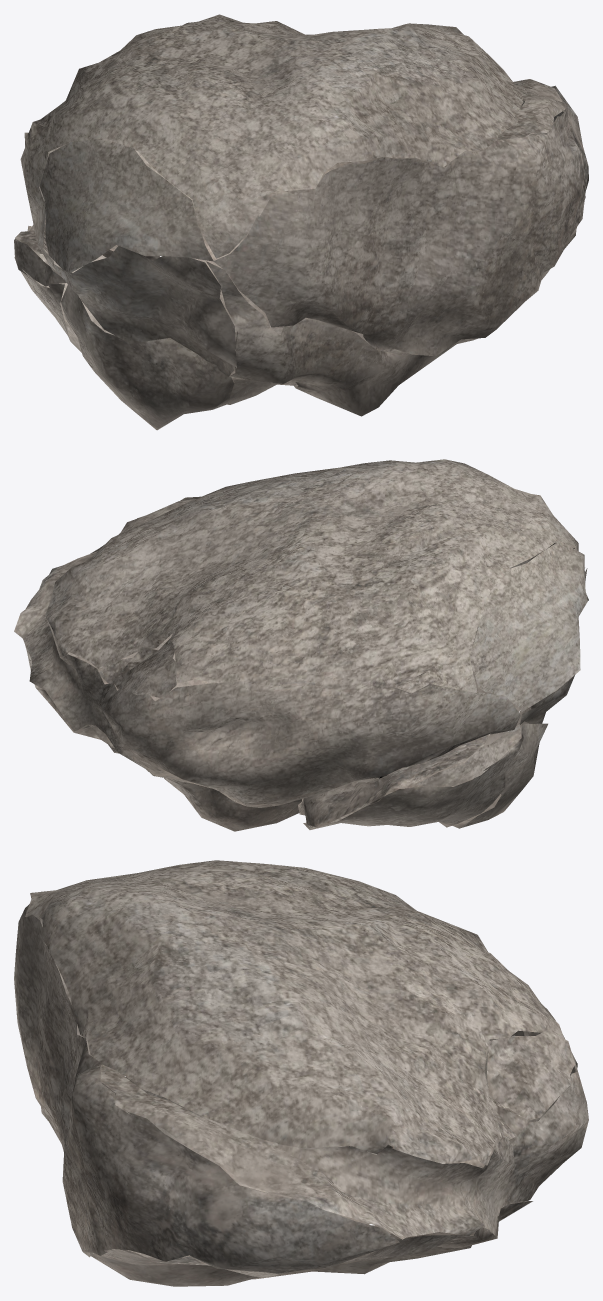
File: BG_RockC.fbx
3 renders of one model, top to bottom at view 1: azimuth 30°, elevation 25°; view 2: azimuth 150°, elevation 25°; view 3: azimuth 270°, elevation 25°, orthographic. The views are drawn at different scales.
Parts seen in each view (by area): view 1: BG_RockC; view 2: BG_RockC; view 3: BG_RockC.
Part boxes in pixels (bbox=[...]): BG_RockC: bbox=[14, 14, 588, 430]; BG_RockC: bbox=[14, 459, 588, 831]; BG_RockC: bbox=[14, 860, 588, 1286].
Size of the model in its own units: 1.51 by 0.8769 by 1.29.
1 material, 1 textured.
